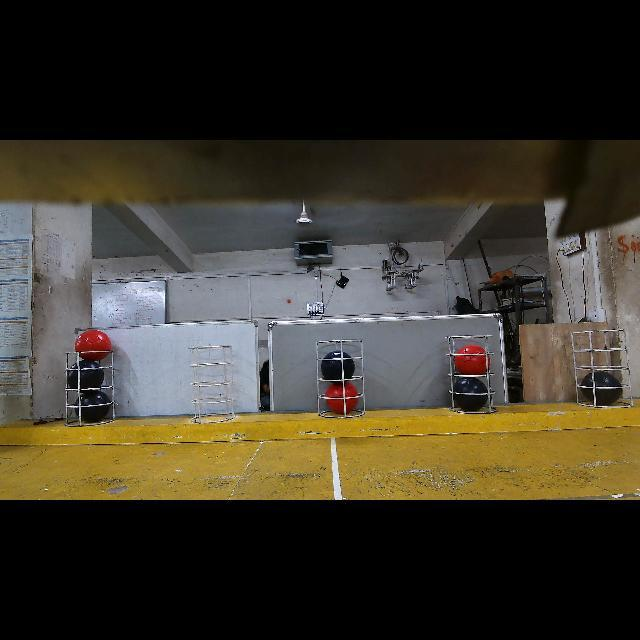P: (580, 372, 621, 407), (72, 390, 111, 423), (455, 378, 488, 413), (68, 361, 105, 392), (321, 350, 355, 383)
R: (77, 330, 111, 362), (326, 382, 359, 414), (456, 344, 487, 378)
S: (65, 348, 135, 419), (312, 338, 374, 418), (576, 323, 630, 407), (442, 333, 496, 407), (188, 344, 234, 424)
